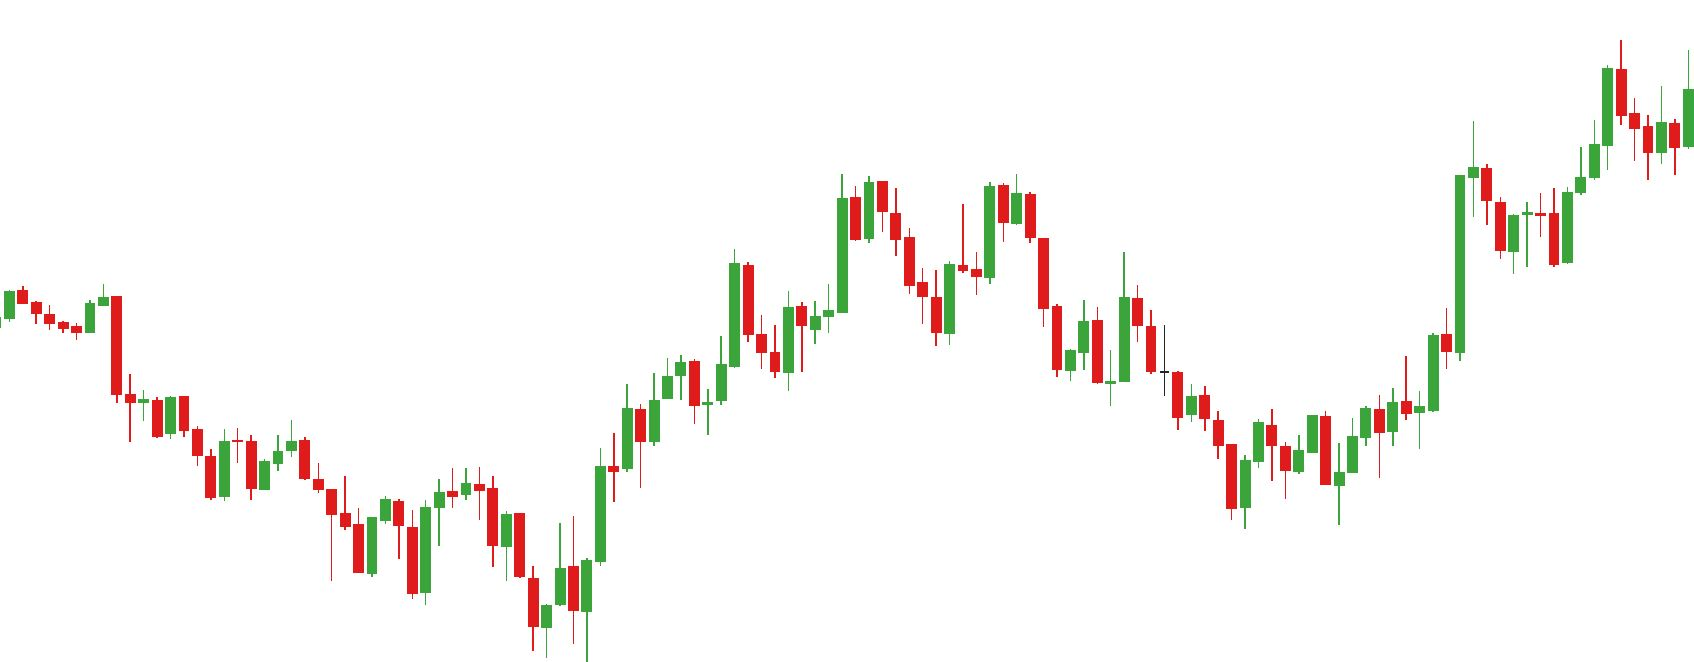buy: (404, 511, 569, 662), (1224, 425, 1345, 528)
